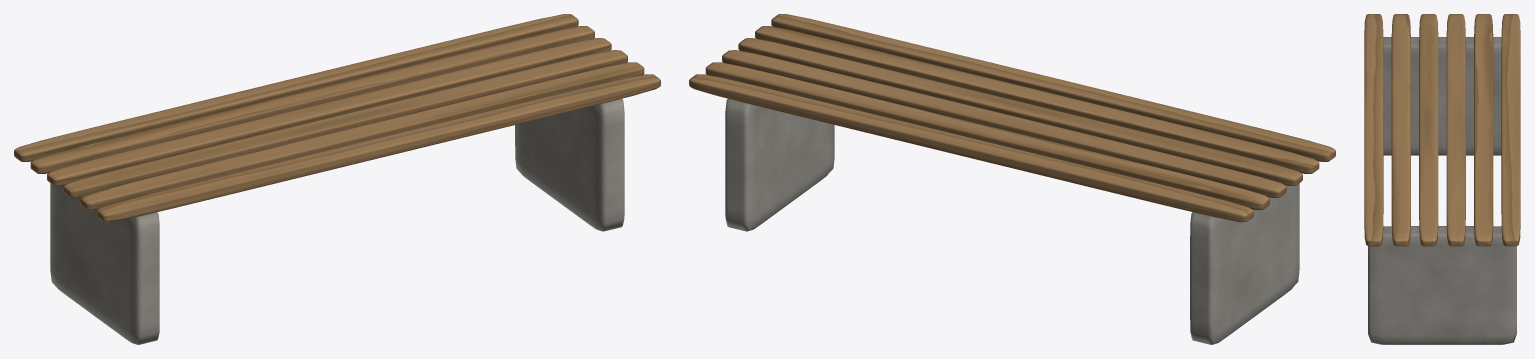
File: concrete-modern.glb
The picture shows the model from 3 angles, left to right: view 1: azimuth 30°, elevation 25°; view 2: azimuth 150°, elevation 25°; view 3: azimuth 270°, elevation 25°; orthographic projection. The views are drawn at different scales.
Parts seen in each view (by area): view 1: wood_h, concrete; view 2: wood_h, concrete; view 3: wood_h, concrete.
Part boxes in pixels (x1,y1,x2,y2): wood_h: (14,14,660,222); concrete: (50,98,624,344); wood_h: (689,14,1335,222); concrete: (725,98,1299,344); wood_h: (1364,14,1520,246); concrete: (1368,37,1516,344).
Size of the model in its own units: 1.8 by 0.446 by 0.525.
Materials: 2 (2 with a texture image).
